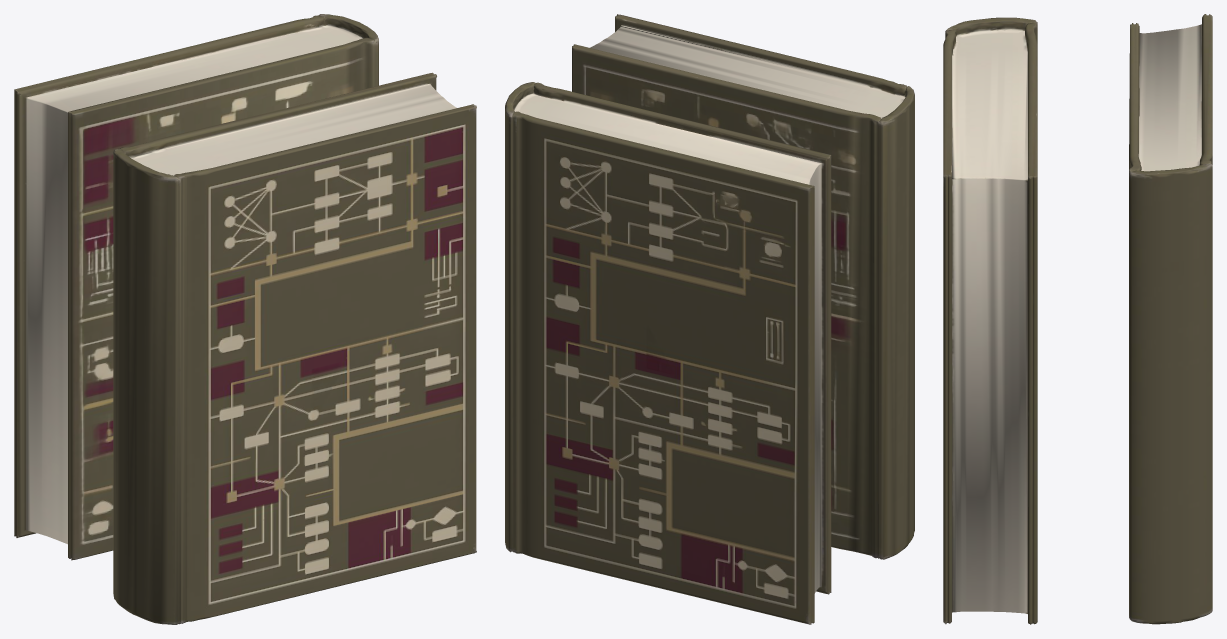
Rendered from pieces-of-the-action.glb.
3 views of the same model, side by side, from view 1: azimuth 30°, elevation 25°; view 2: azimuth 150°, elevation 25°; view 3: azimuth 270°, elevation 25° (orthographic). The views are drawn at different scales.
Visible parts, largest first — view 1: Pieces of the Action; view 2: Pieces of the Action; view 3: Pieces of the Action.
Part boxes in pixels (<box>): Pieces of the Action: <box>14,14,476,624</box>; Pieces of the Action: <box>505,14,914,624</box>; Pieces of the Action: <box>943,14,1212,624</box>.
Size of the model in its own units: 0.7754 by 0.998 by 0.541.
1 material, 1 textured.
